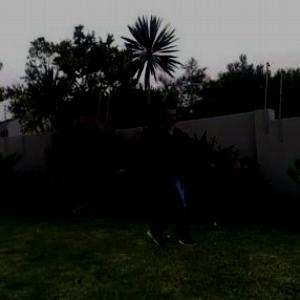land: (95, 80, 213, 272)
